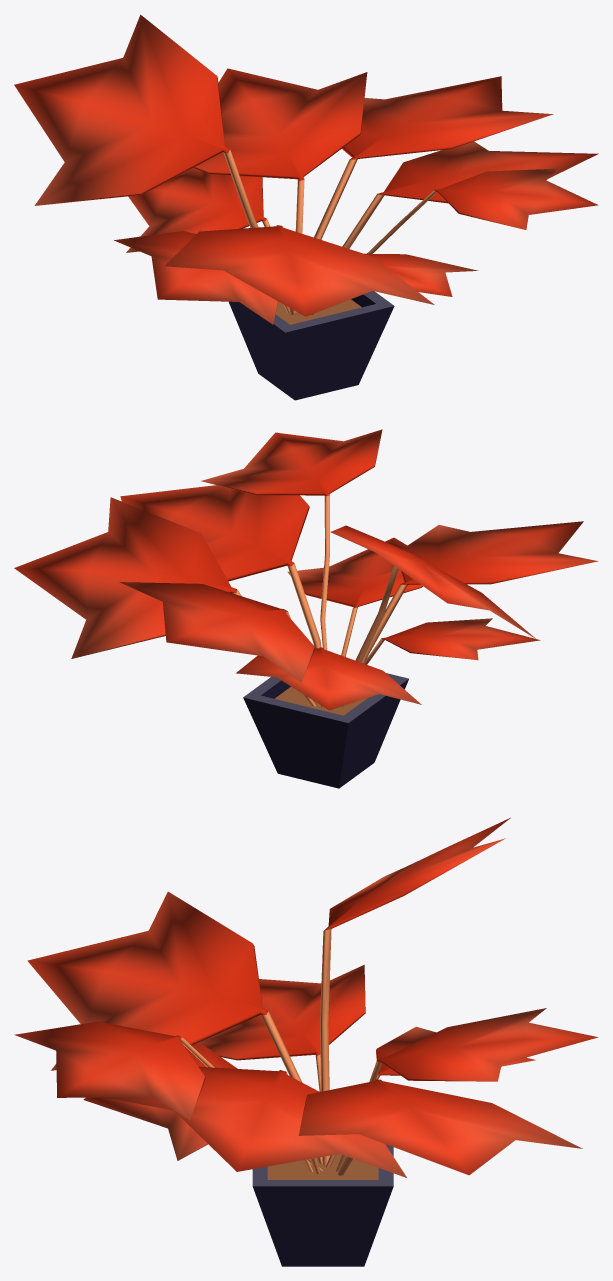
The model's file is pfp26.fbx.
3 views of the same model, one above another, from view 1: azimuth 30°, elevation 25°; view 2: azimuth 150°, elevation 25°; view 3: azimuth 270°, elevation 25° (orthographic). The views are drawn at different scales.
Parts seen in each view (by area): view 1: pfp26; view 2: pfp26; view 3: pfp26.
Boxes of the visible parts, bbox=[...] form: pfp26: bbox=[14, 14, 598, 400]; pfp26: bbox=[14, 429, 598, 788]; pfp26: bbox=[14, 817, 598, 1266].
Bounding box in the file's own units: 93.03 × 57.36 × 83.45.
